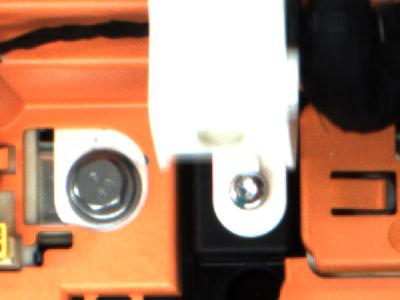nut_b: (64, 152, 147, 228)
